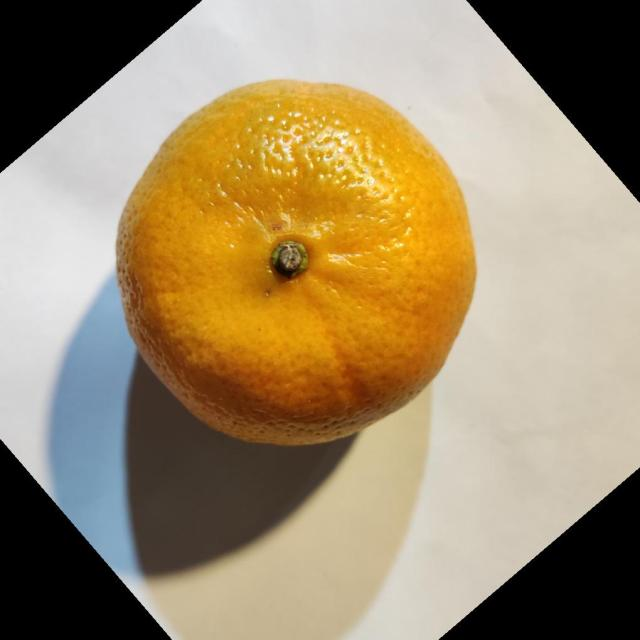fresh orange: (114, 77, 478, 447)
